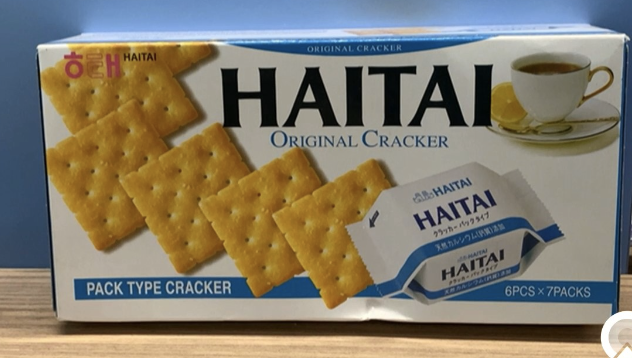crackers_150g: (57, 46, 604, 313)
